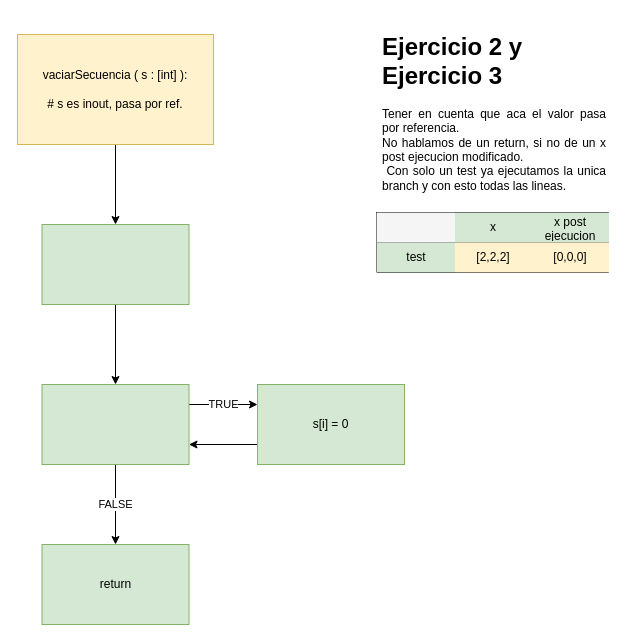
Image size: 627x642. Some labels were removed from this diagram. The centre of each missing label's shape, as x and y in pixels:
i : int = 0: point 115,264
while i < len(s): point 115,424
